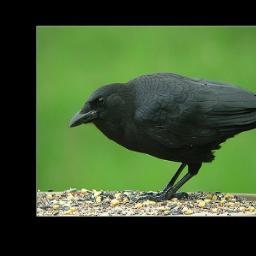Crow: (68, 73, 256, 206)
